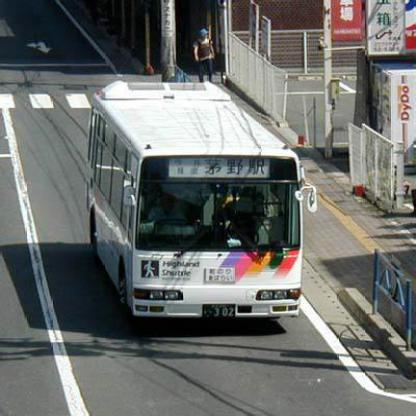bus: (82, 80, 307, 321)
